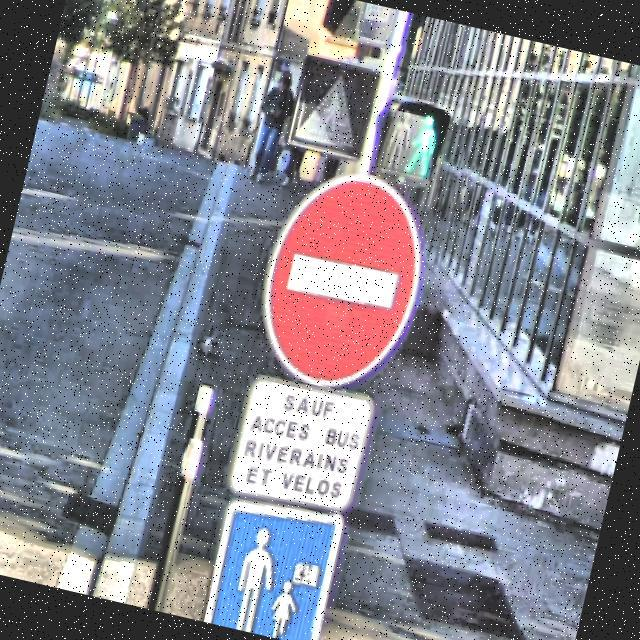green_light: (396, 102, 445, 178)
